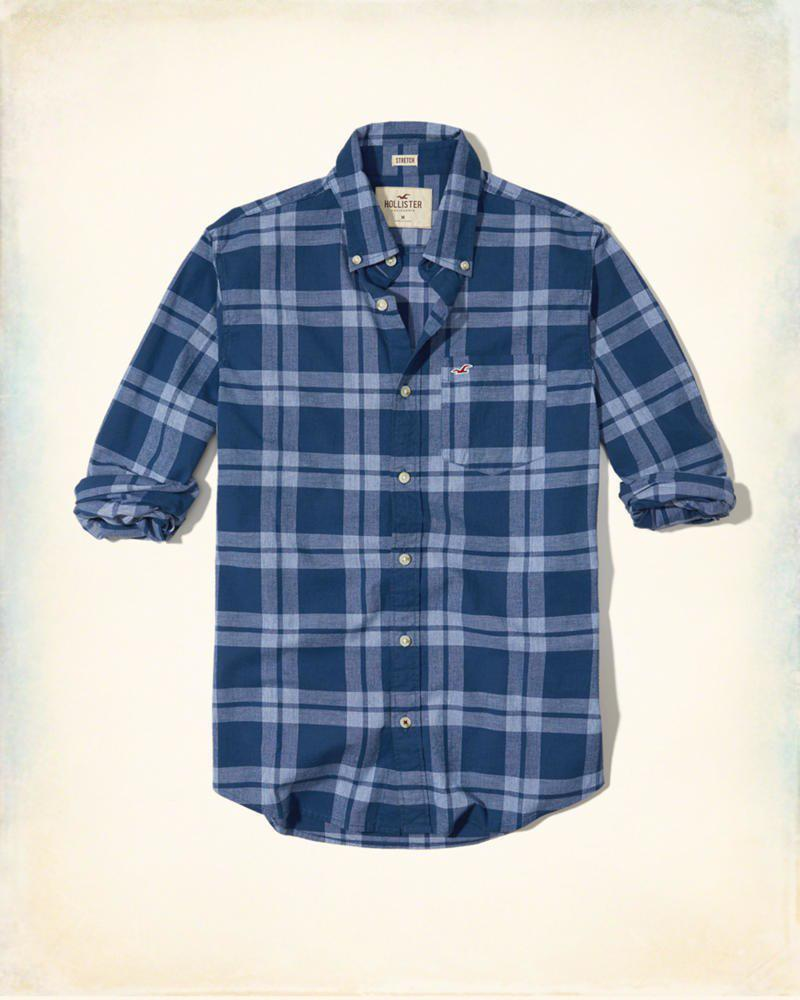teeshirt: (73, 113, 742, 871)
